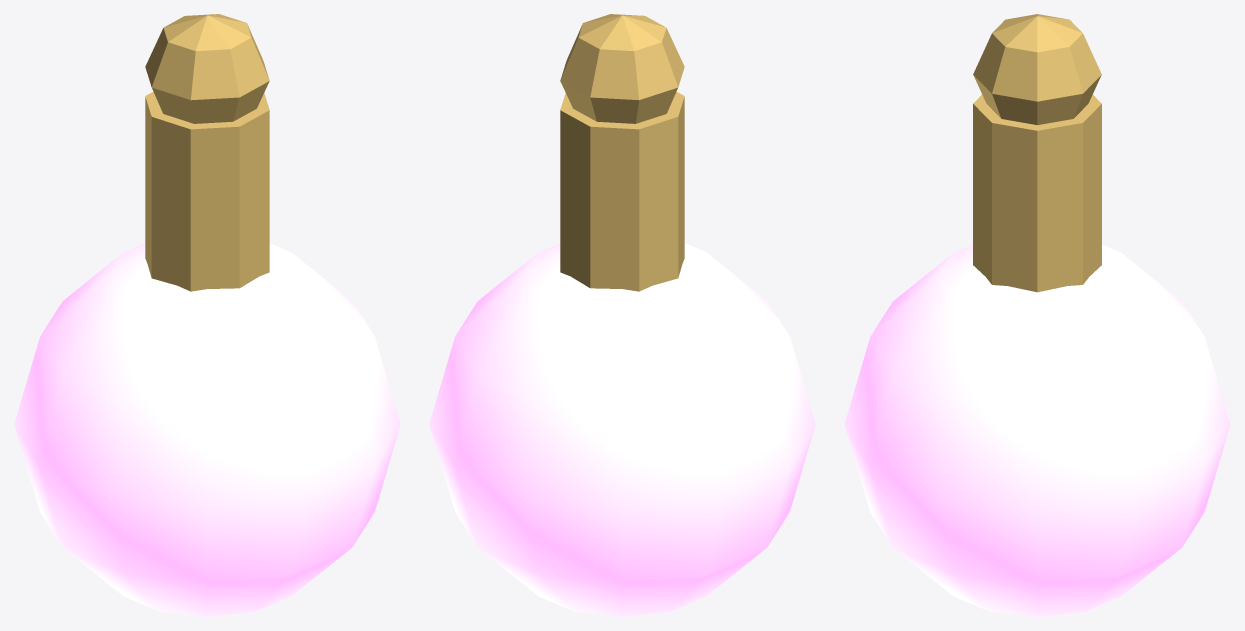
The model's file is heart.glb.
The picture shows the model from 3 angles, left to right: view 1: azimuth 30°, elevation 25°; view 2: azimuth 150°, elevation 25°; view 3: azimuth 270°, elevation 25°; orthographic projection.
Visible parts, largest first — view 1: heart; view 2: heart; view 3: heart.
Boxes of the visible parts, <box> form: heart: <box>14,14,400,616</box>; heart: <box>429,14,815,616</box>; heart: <box>844,14,1230,616</box>.
Size of the model in its own units: 0.24 by 0.4 by 0.24.
